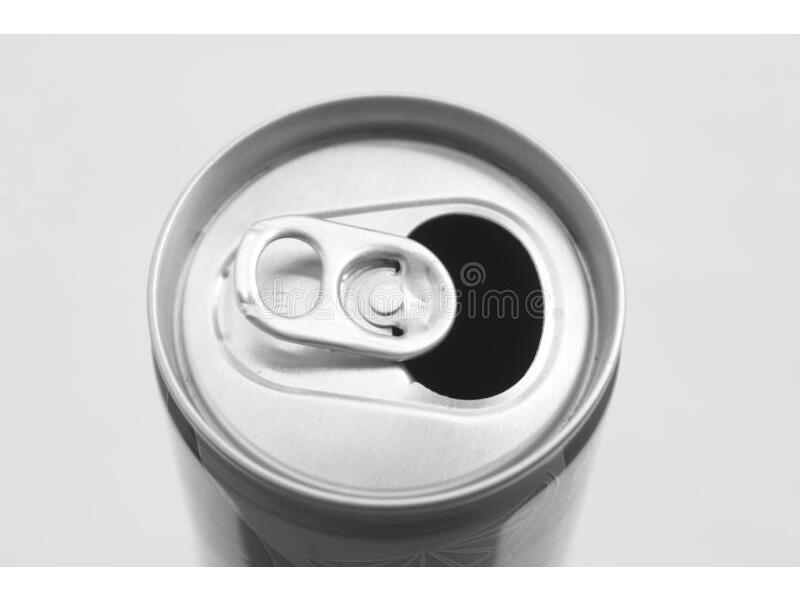can: (136, 80, 634, 568)
